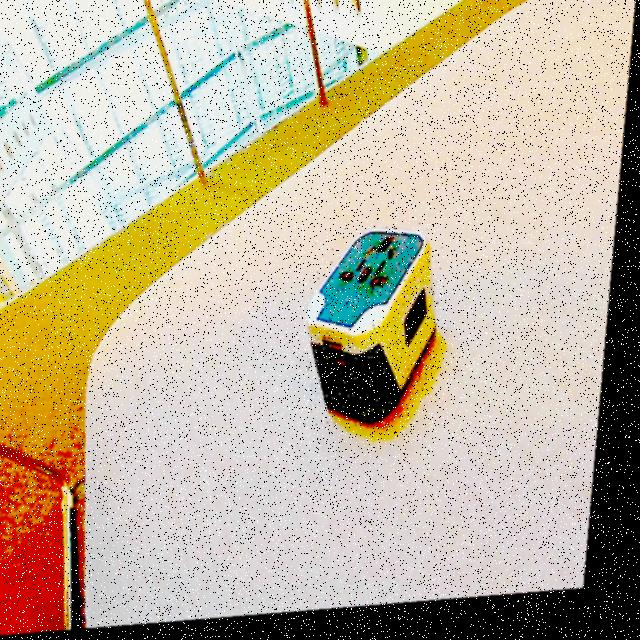adapter: (304, 228, 451, 436)
